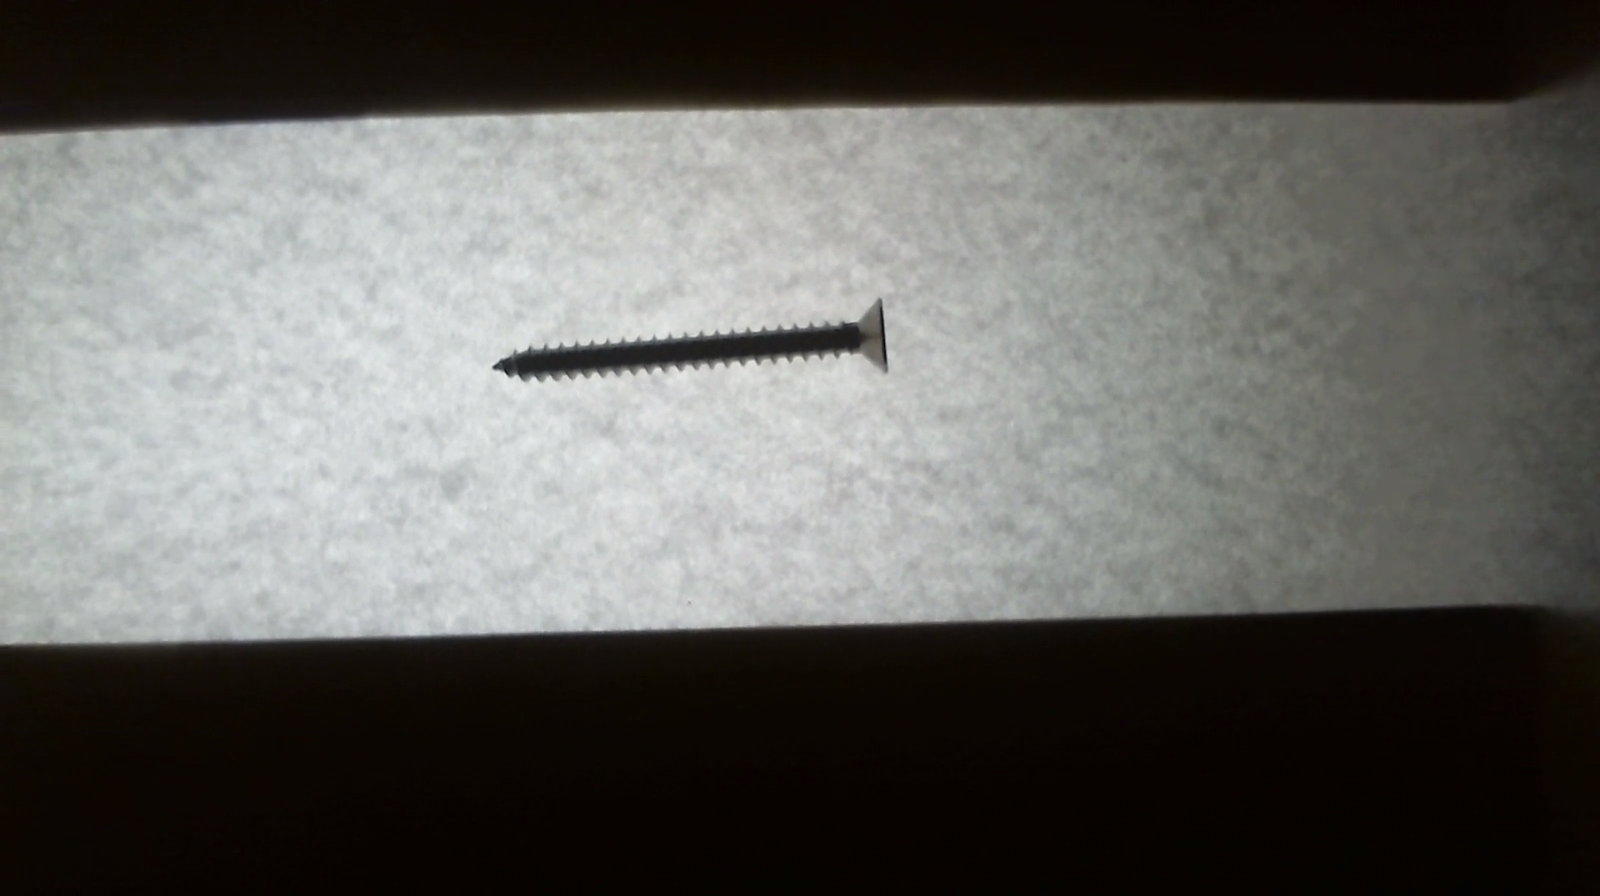S002: (493, 297, 895, 387)
